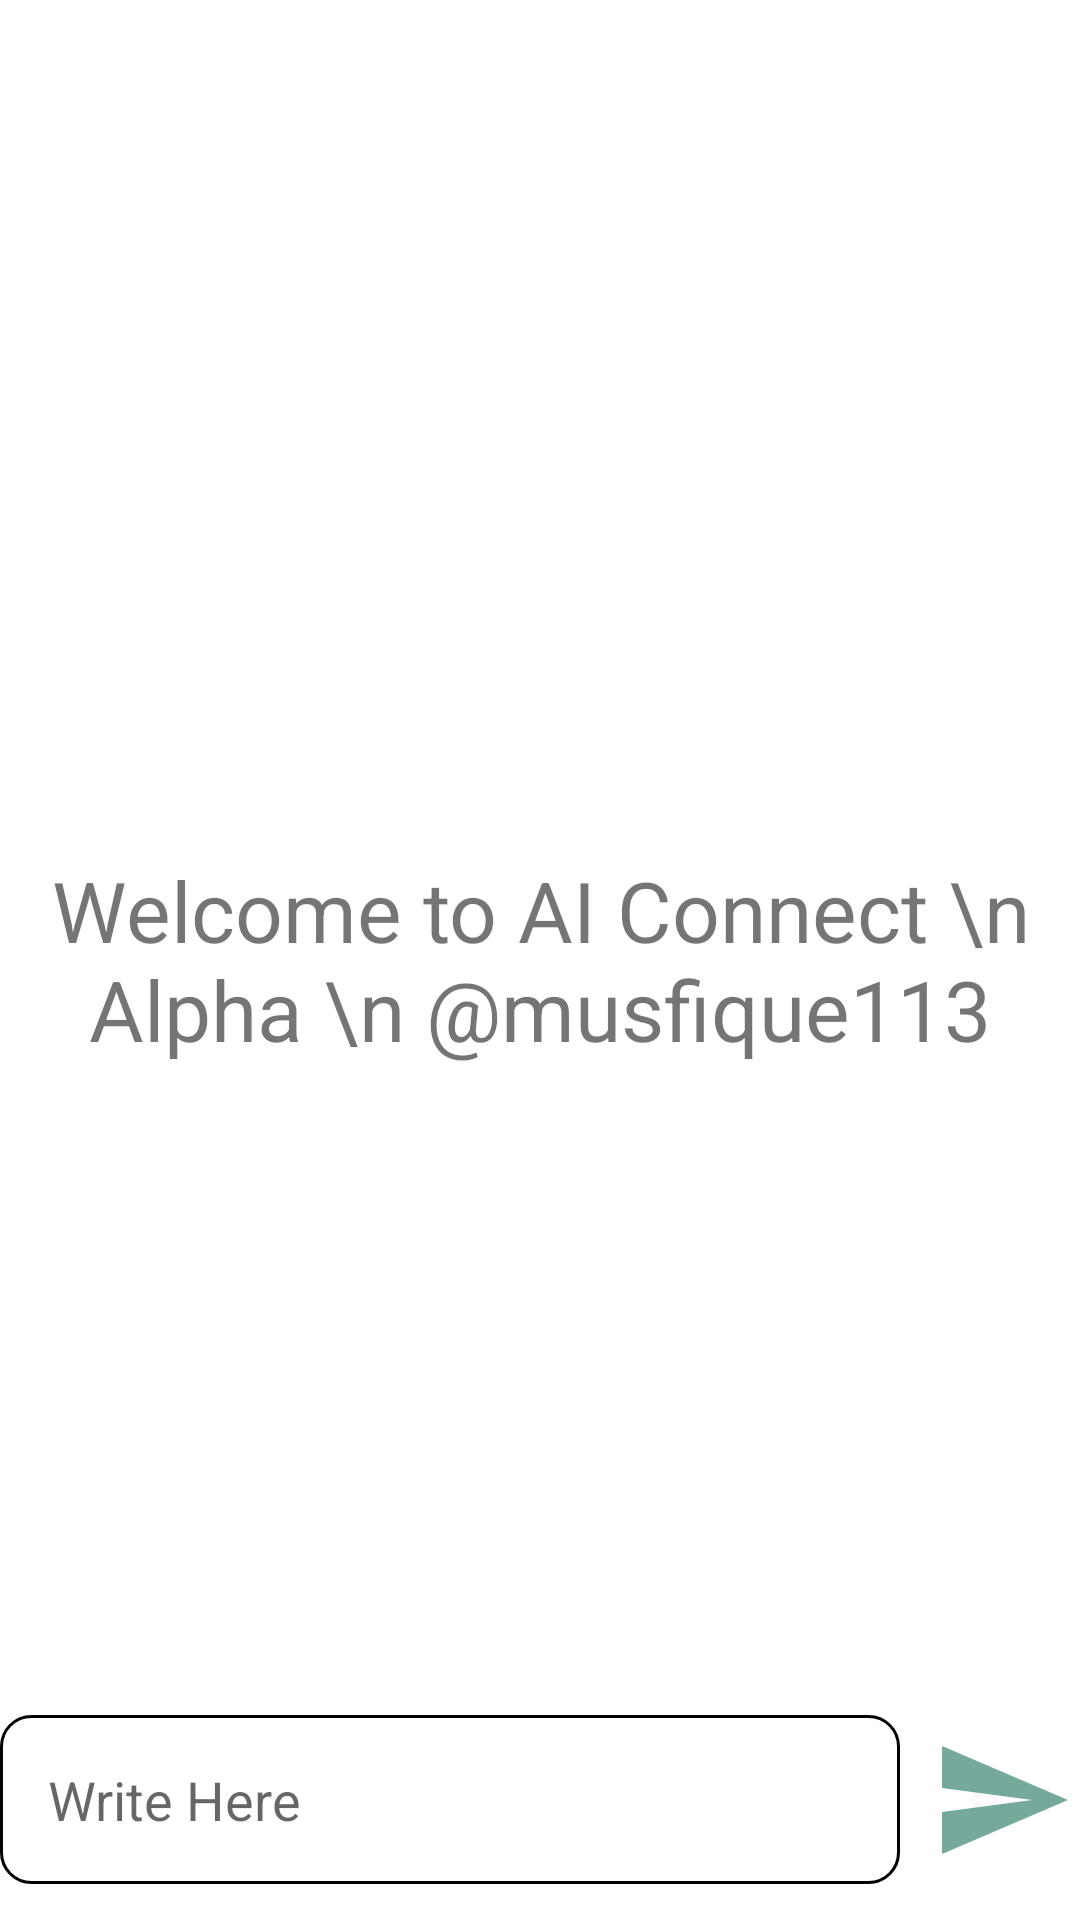

Where icons sit on this 1080px x 1920px app screen, as (x1=x1, y1=y1, x2=x2, y2=y2):
send: (x1=942, y1=1746, x2=1068, y2=1854)
